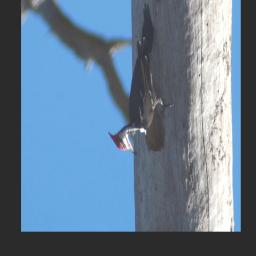Woodpecker: (108, 3, 175, 156)
